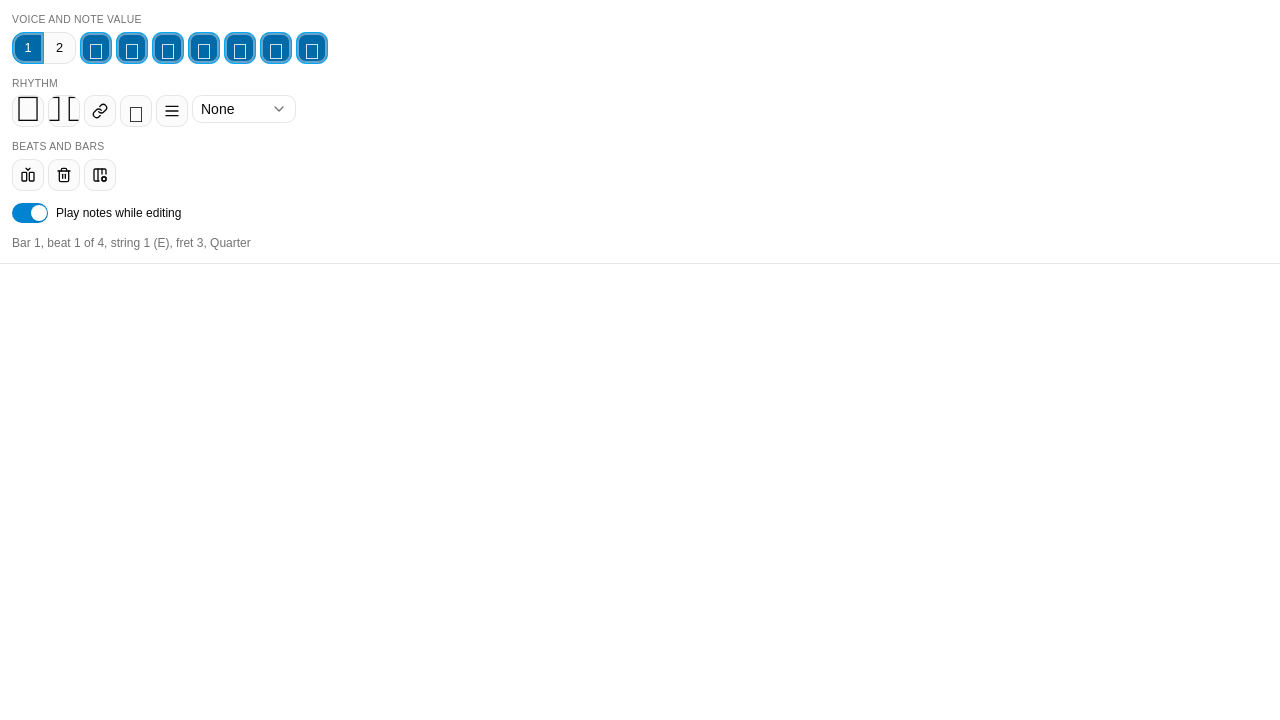
Test: EditToolbar: nested tuplets (#43) › refuses a combination with too many notes
This screenshot has width=1280, height=720.
What coordinates should you click on to do the following:
click the dropdown named "Tuplet"
I would click on:
 (244, 109)
Its box is [192,95,296,123].
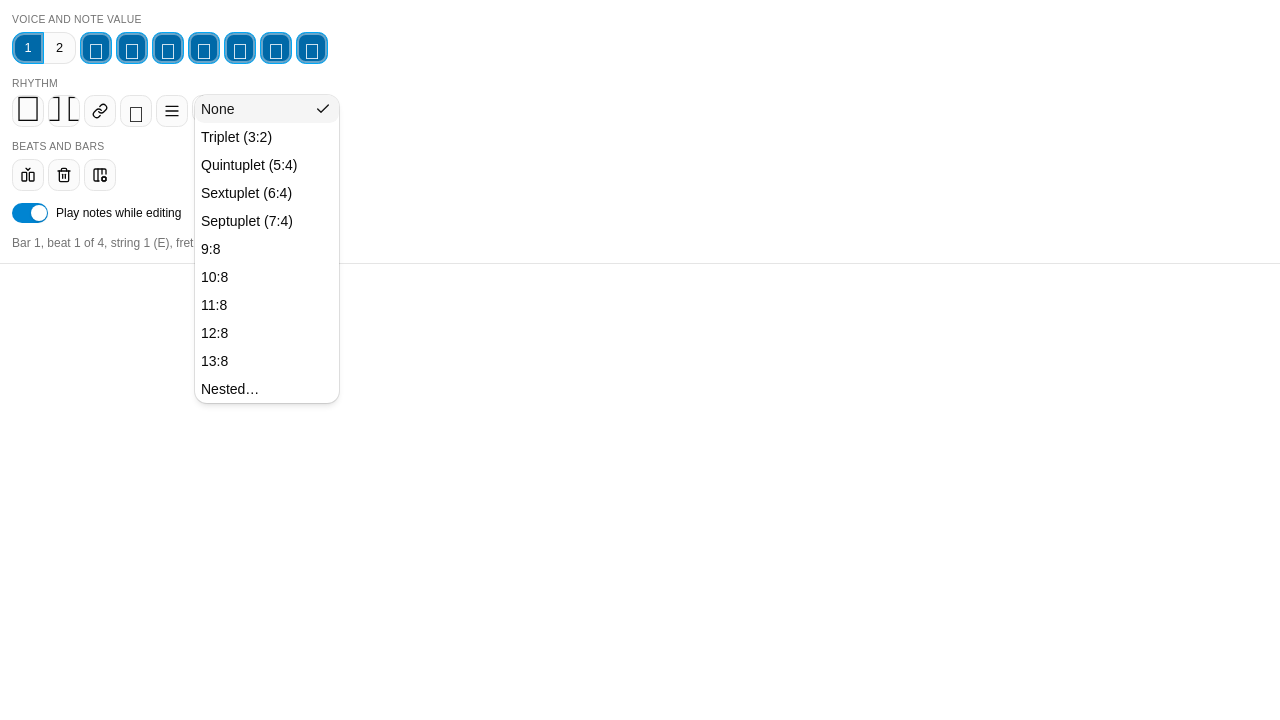
What coordinates should you click on to do the following:
click the option "Nested…"
I would click on:
 (230, 389)
Its box is [201,381,259,397].
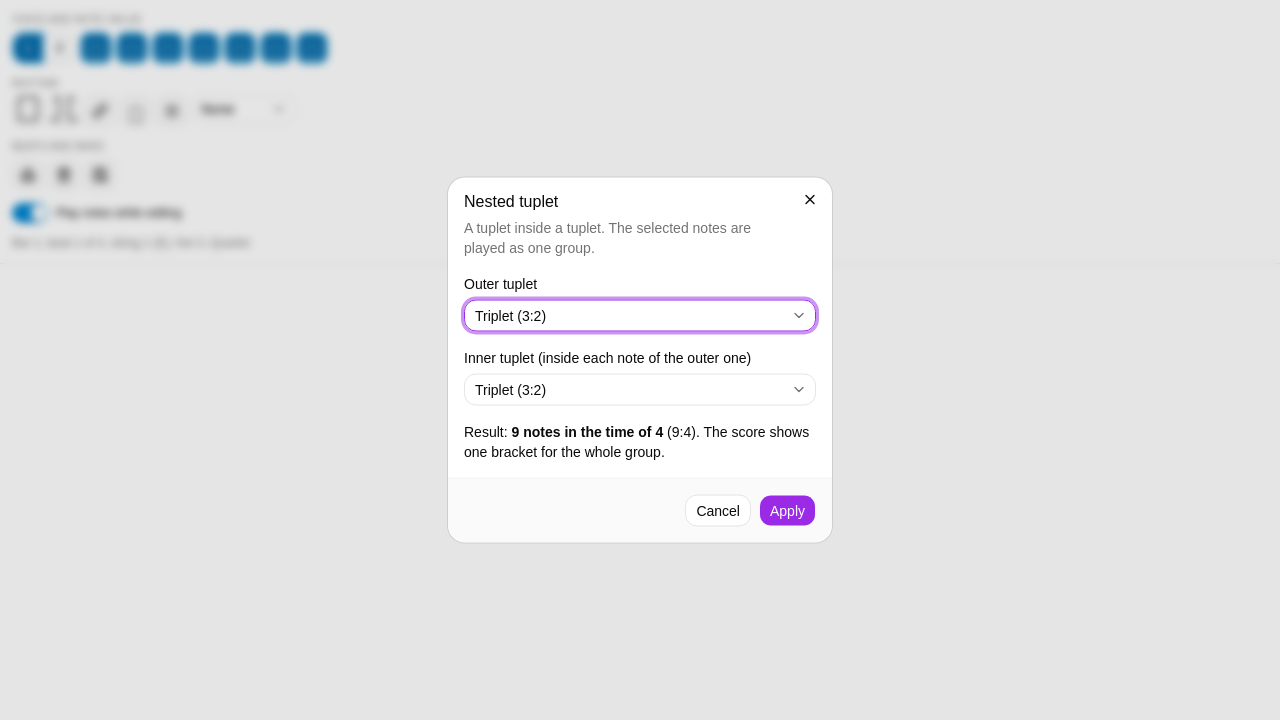
What coordinates should you click on to do the following:
click the dropdown named "Outer tuplet"
I would click on:
 (511, 316)
Its box is [464,300,816,332].
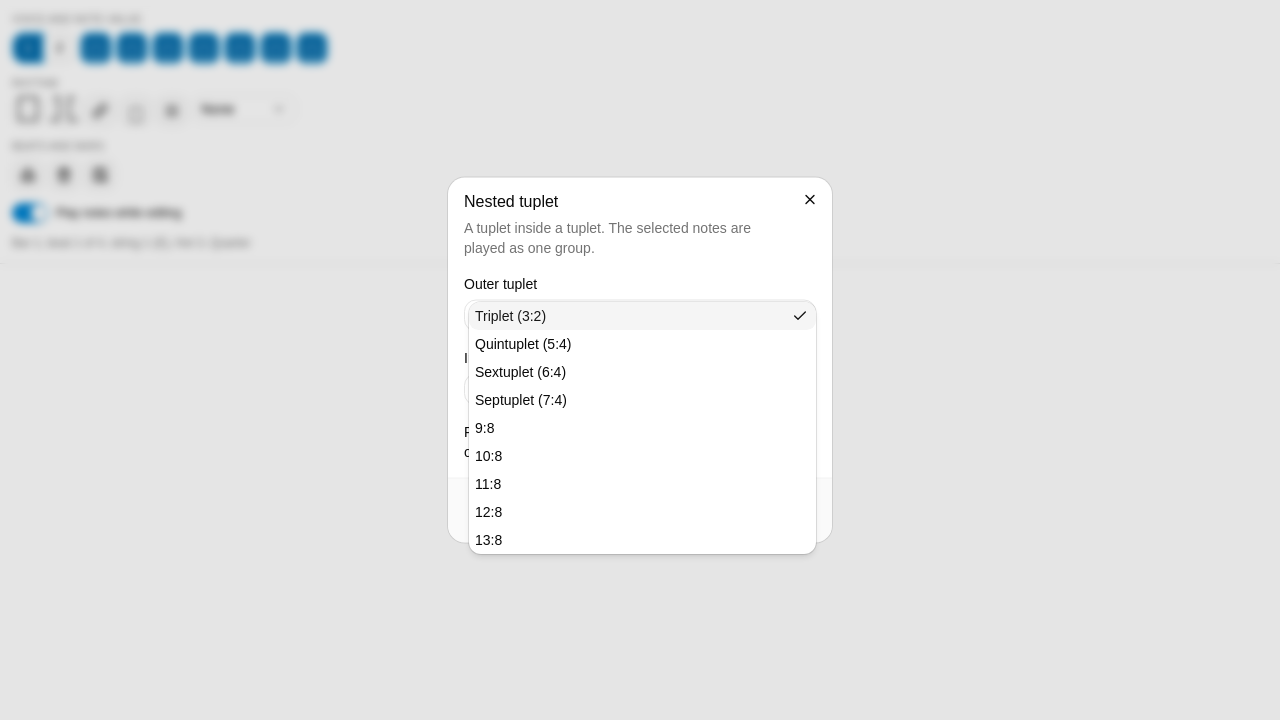
What coordinates should you click on to do the following:
click the option "13:8"
I would click on:
 (489, 540)
Its box is [475,532,502,548].
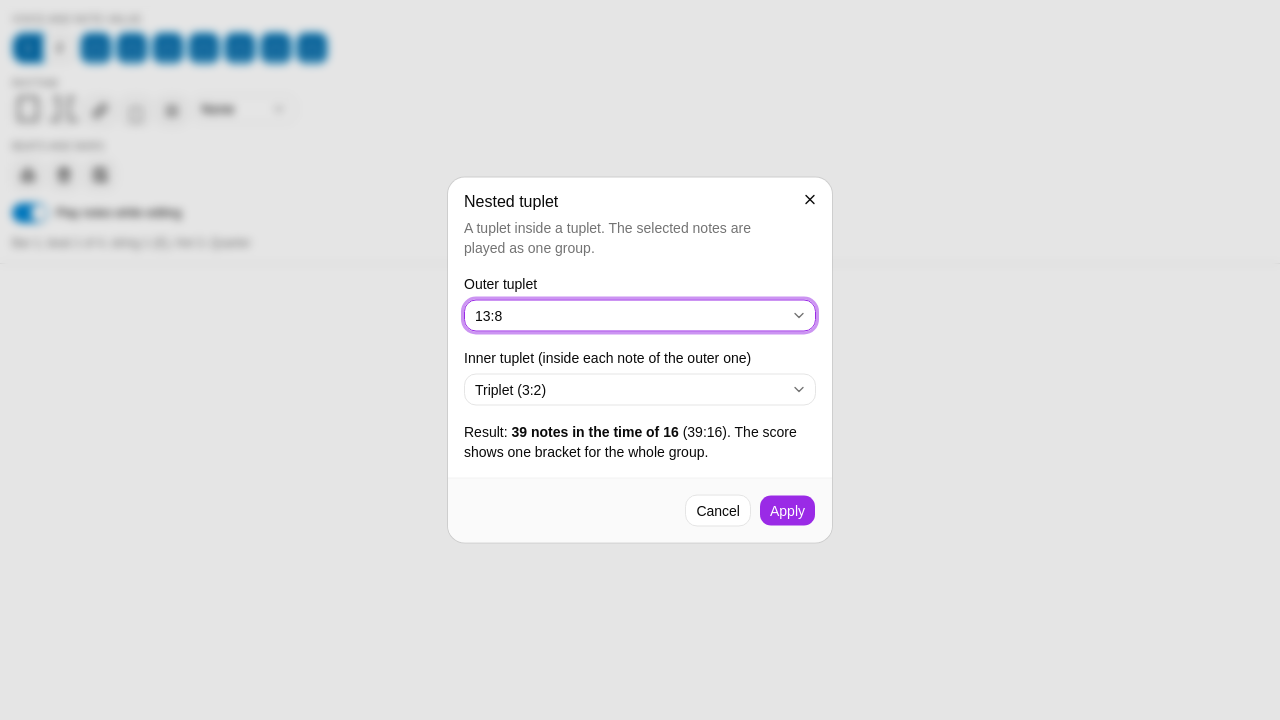
What coordinates should you click on to do the following:
click the dropdown named "Inner tuplet"
I would click on:
 (511, 390)
Its box is [464,374,816,406].
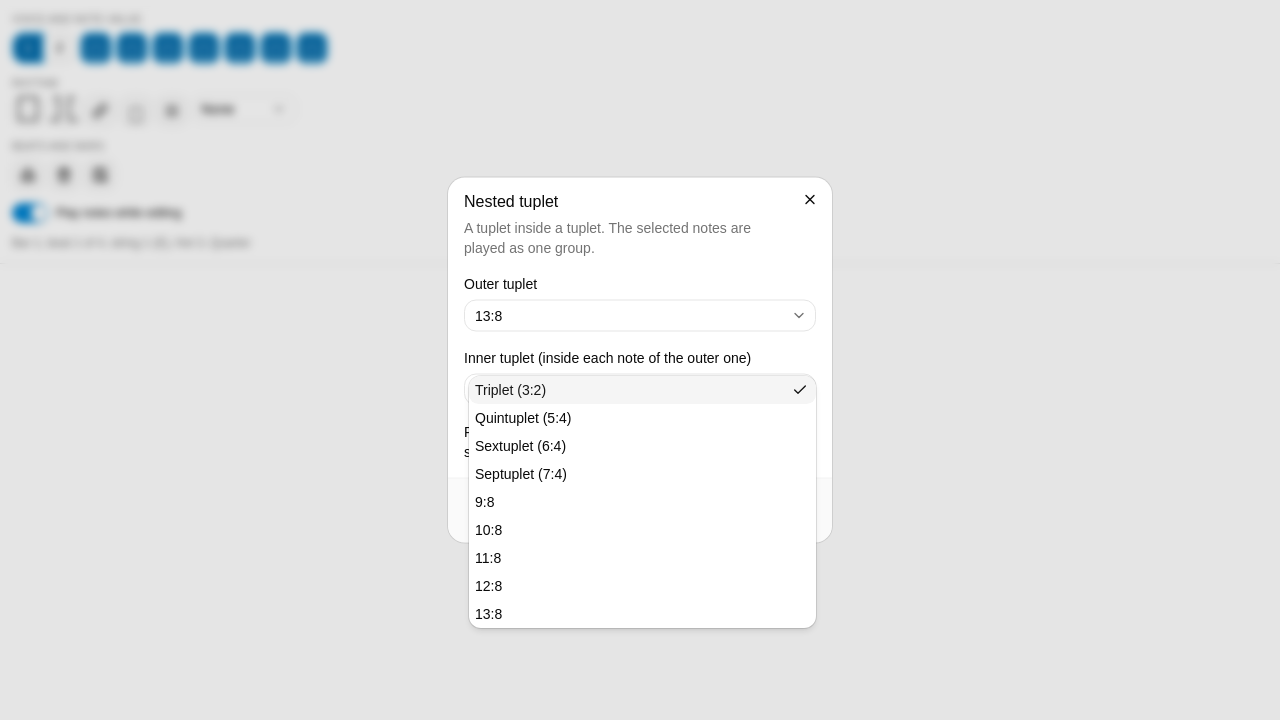
What coordinates should you click on to do the following:
click the option "13:8"
I would click on:
 (489, 614)
Its box is [475,606,502,622].
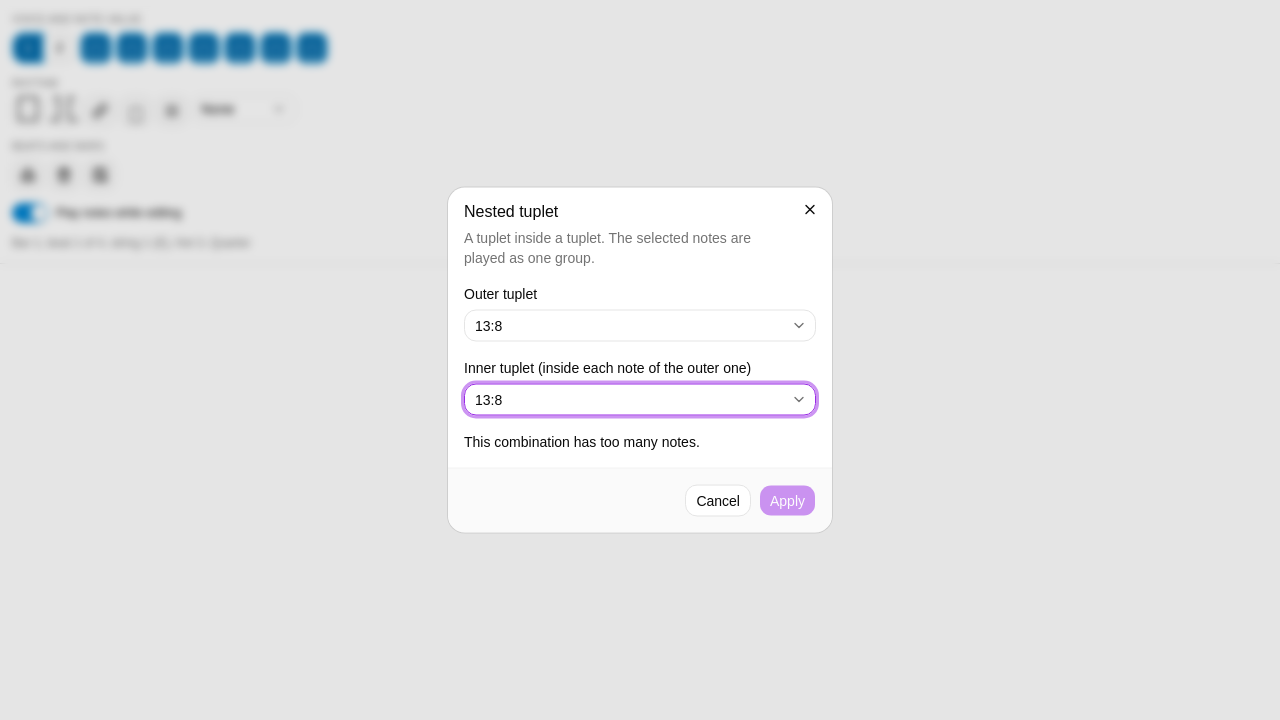
Expected: the message with test id "nested-tuplet-result" shows "too many notes", [464,434,700,450]
Expected: the button "Apply" is disabled, [759,484,816,516]
